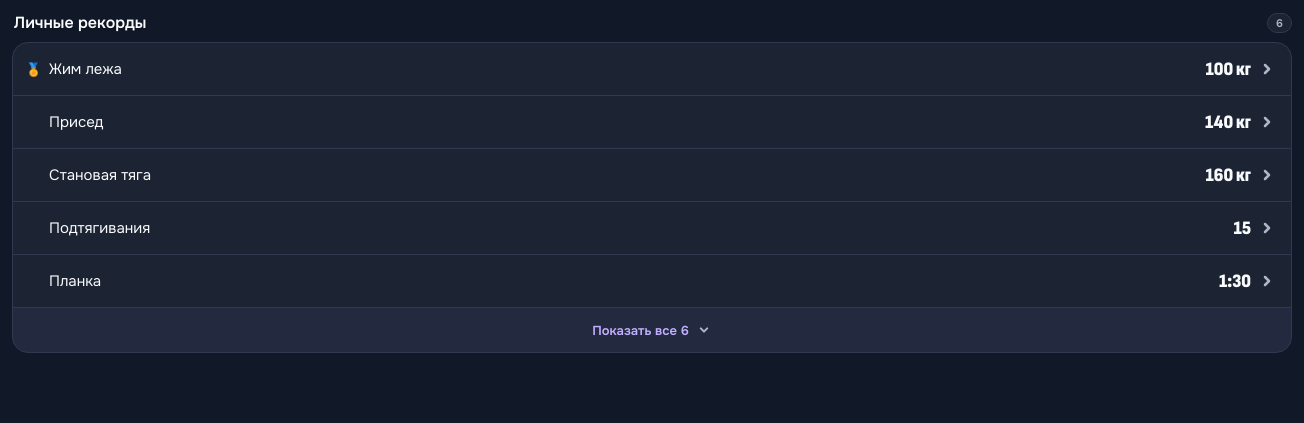
Test: PersonalRecords › раскрывает полный список и снова сворачивает его
The image size is (1304, 423).
Click the button "Показать все 6": (652, 330) [13,308,1291,352]
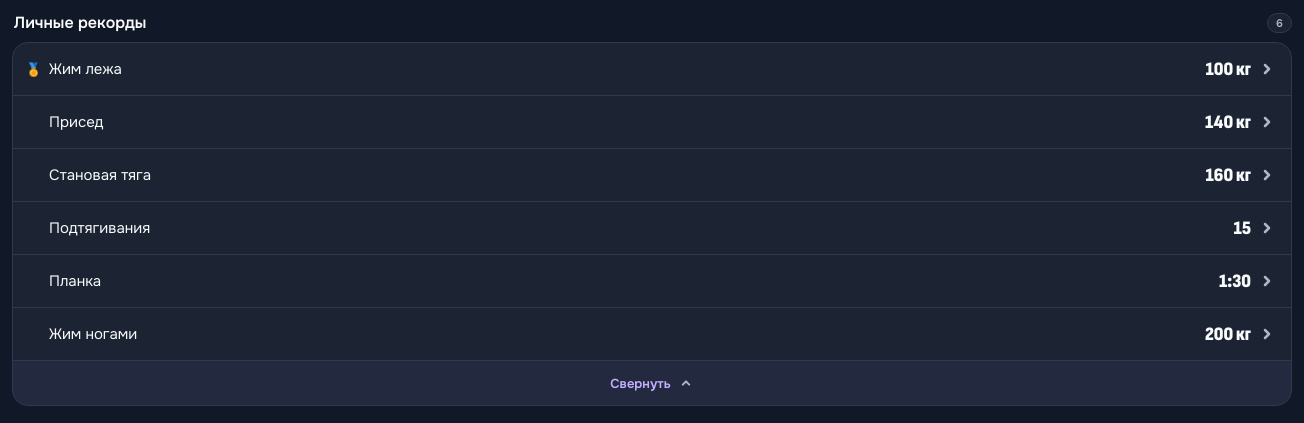
Check: the text "Жим ногами" is shown, box [49,324,137,344]
Check: the button "Свернуть" is expanded
Click the button "Свернуть": (652, 383) [13,361,1291,405]
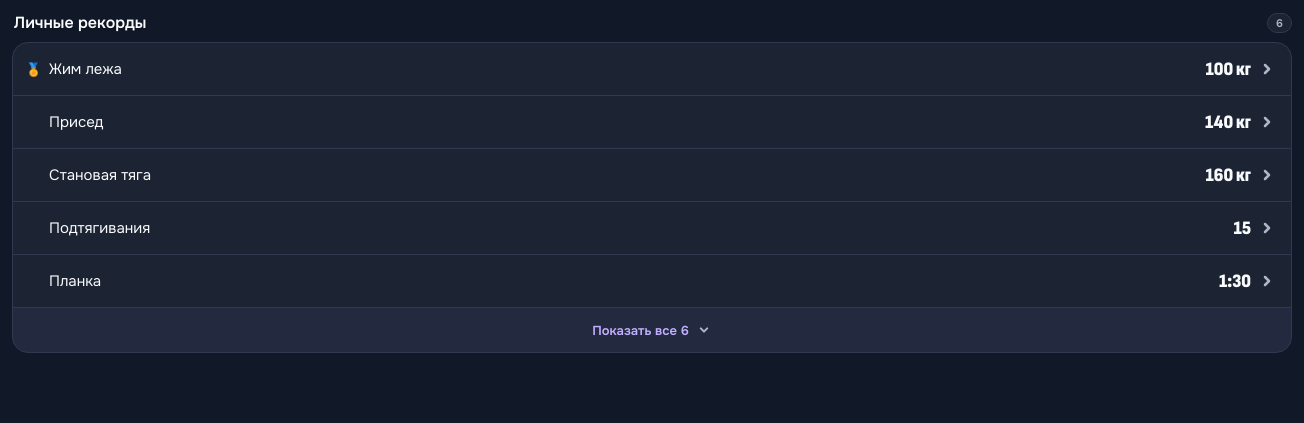
Check: the button "Жим ногами" is gone
